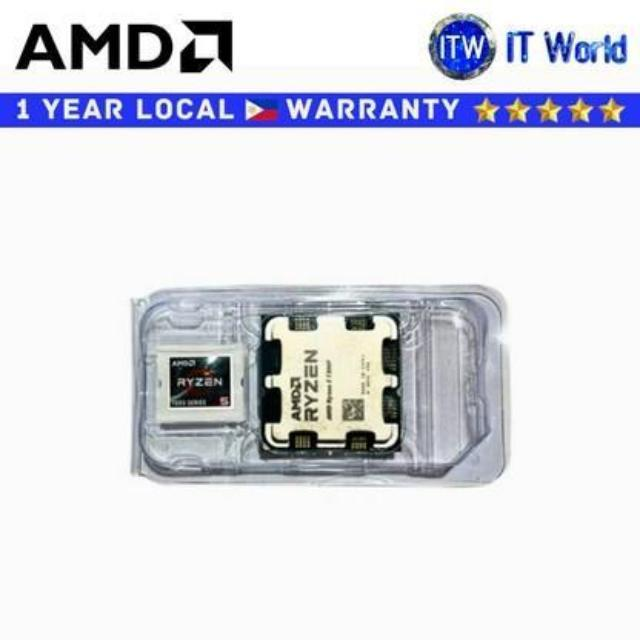CPU: (268, 322, 408, 456)
